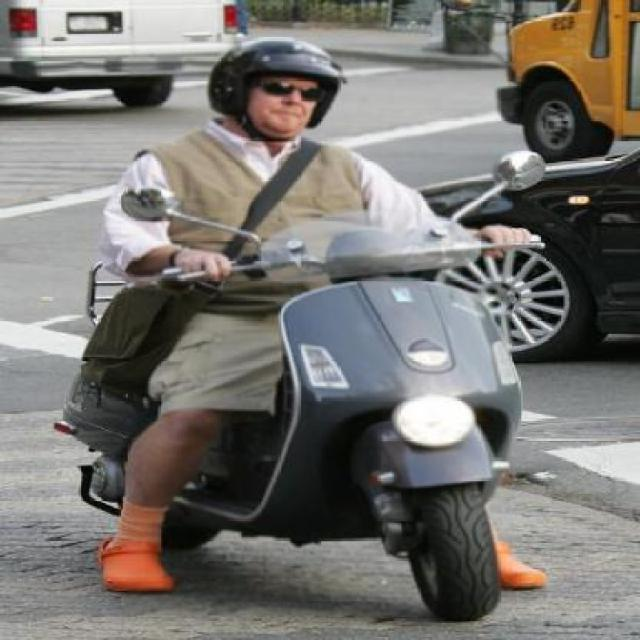helmet: (206, 32, 347, 155)
motorcycle: (58, 32, 554, 620)
